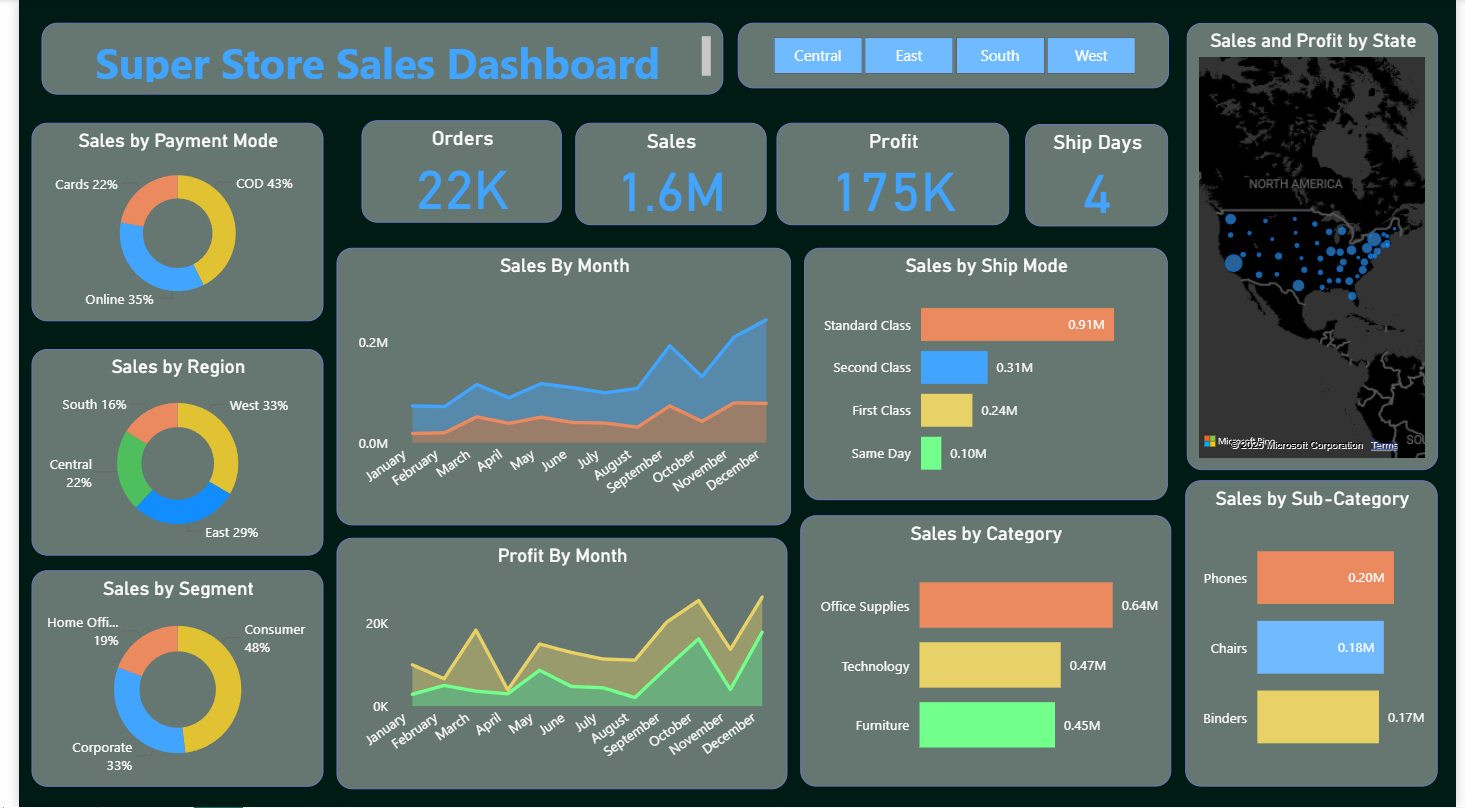

The page's visual inventory and layout, read from the dashboard file:
{"tool":"powerbi","page":{"name":"Page 1","canvas":[1280,720],"ordinal":0},"visuals":[{"type":"clusteredBarChart","title":"Sales by Category","fields":{"Category":["SuperStore_Sales_Dataset.Category"],"Y":["Sum(SuperStore_Sales_Dataset.Sales)"]},"box":[696.2,460,330,241.2],"z":0},{"type":"clusteredBarChart","title":" Sales by Sub-Category","fields":{"Category":["SuperStore_Sales_Dataset.Sub-Category"],"Y":["Sum(SuperStore_Sales_Dataset.Sales)"]},"box":[1038.8,428.8,225,272.5],"z":1000},{"type":"clusteredBarChart","title":"Sales by Ship Mode","fields":{"Y":["Sum(SuperStore_Sales_Dataset.Sales)"],"Category":["SuperStore_Sales_Dataset.Ship Mode"]},"box":[698.8,221.2,323.8,225],"z":2000},{"type":"stackedAreaChart","title":"Sales By Month","fields":{"Y":["Sum(SuperStore_Sales_Dataset.Sales)"],"Category":["SuperStore_Sales_Dataset.Order Date.Variation.Date Hierarchy.Month"],"Series":["SuperStore_Sales_Dataset.Order Date.Variation.Date Hierarchy.Year"]},"box":[282.5,221.2,405,247.5],"z":3000},{"type":"stackedAreaChart","title":"Profit By Month","fields":{"Category":["SuperStore_Sales_Dataset.Order Date.Variation.Date Hierarchy.Month"],"Series":["SuperStore_Sales_Dataset.Order Date.Variation.Date Hierarchy.Year"],"Y":["Sum(SuperStore_Sales_Dataset.Profit)"]},"box":[282.5,480,401.2,223.8],"z":4000},{"type":"map","title":"Sales and Profit by State","fields":{"Category":["SuperStore_Sales_Dataset.State"],"Size":["Sum(SuperStore_Sales_Dataset.Sales)"]},"box":[1040,21.4,224.3,398.6],"z":5000},{"type":"donutChart","title":"Sales by Segment","fields":{"Category":["SuperStore_Sales_Dataset.Segment"],"Y":["Sum(SuperStore_Sales_Dataset.Sales)"]},"box":[11.4,508.6,260,192.9],"z":6000},{"type":"donutChart","title":"Sales by Payment Mode","fields":{"Category":["SuperStore_Sales_Dataset.Payment Mode"],"Y":["Sum(SuperStore_Sales_Dataset.Sales)"]},"box":[11.4,110,260,177.1],"z":7000},{"type":"slicer","fields":{"Values":["SuperStore_Sales_Dataset.Region"]},"box":[640,21.4,384.3,58.6],"z":8000},{"type":"textbox","box":[20,21.4,607.1,64.3],"z":9000},{"type":"card","title":"Sales","fields":{"Values":["Sum(SuperStore_Sales_Dataset.Sales)"]},"box":[495,110,170,91.2],"z":10000},{"type":"card","title":"Orders","fields":{"Values":["Sum(SuperStore_Sales_Dataset.Quantity)"]},"box":[305,107.5,178.8,91.2],"z":11000},{"type":"card","title":"Profit","fields":{"Values":["Sum(SuperStore_Sales_Dataset.Profit)"]},"box":[675,110,207.5,91.2],"z":12000},{"type":"card","title":"Ship Days","fields":{"Values":["Avg(SuperStore_Sales_Dataset.AvgDelivery)"]},"box":[896.2,111.2,127.5,91.2],"z":13000},{"type":"donutChart","title":"Sales by Region","fields":{"Y":["Sum(SuperStore_Sales_Dataset.Sales)"],"Category":["SuperStore_Sales_Dataset.Region"]},"box":[11.4,311.4,260,184.3],"z":14000}]}

Visuals, with their boxes in screenshot pixels (x1, y1, x2, y2), scaled from the page's 1280x720 canvas onto the 1465x808 screenshot:
"Sales by Category" clusteredBarChart: (left=797, top=516, right=1175, bottom=787)
" Sales by Sub-Category" clusteredBarChart: (left=1189, top=481, right=1446, bottom=787)
"Sales by Ship Mode" clusteredBarChart: (left=800, top=248, right=1170, bottom=501)
"Sales By Month" stackedAreaChart: (left=323, top=248, right=787, bottom=526)
"Profit By Month" stackedAreaChart: (left=323, top=539, right=783, bottom=790)
"Sales and Profit by State" map: (left=1190, top=24, right=1447, bottom=471)
"Sales by Segment" donutChart: (left=13, top=571, right=311, bottom=787)
"Sales by Payment Mode" donutChart: (left=13, top=123, right=311, bottom=322)
slicer - SuperStore_Sales_Dataset.Region: (left=732, top=24, right=1172, bottom=90)
textbox: (left=23, top=24, right=718, bottom=96)
"Sales" card: (left=567, top=123, right=761, bottom=226)
"Orders" card: (left=349, top=121, right=554, bottom=223)
"Profit" card: (left=773, top=123, right=1010, bottom=226)
"Ship Days" card: (left=1026, top=125, right=1172, bottom=227)
"Sales by Region" donutChart: (left=13, top=349, right=311, bottom=556)
